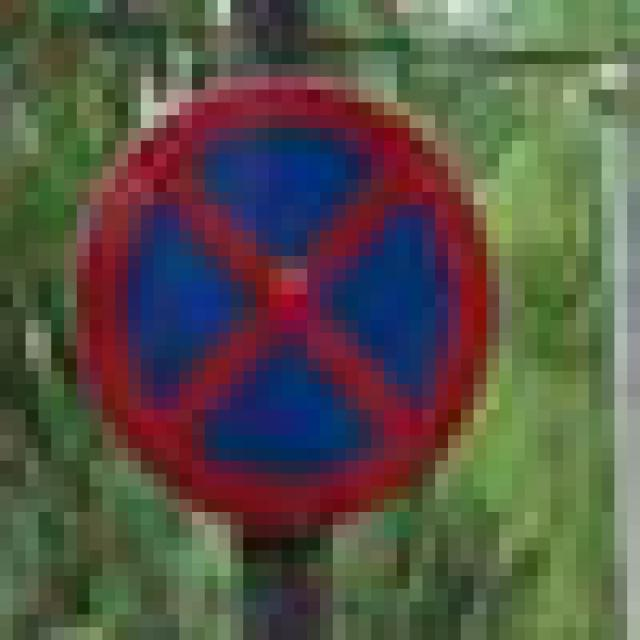no_parking: (51, 64, 474, 512)
